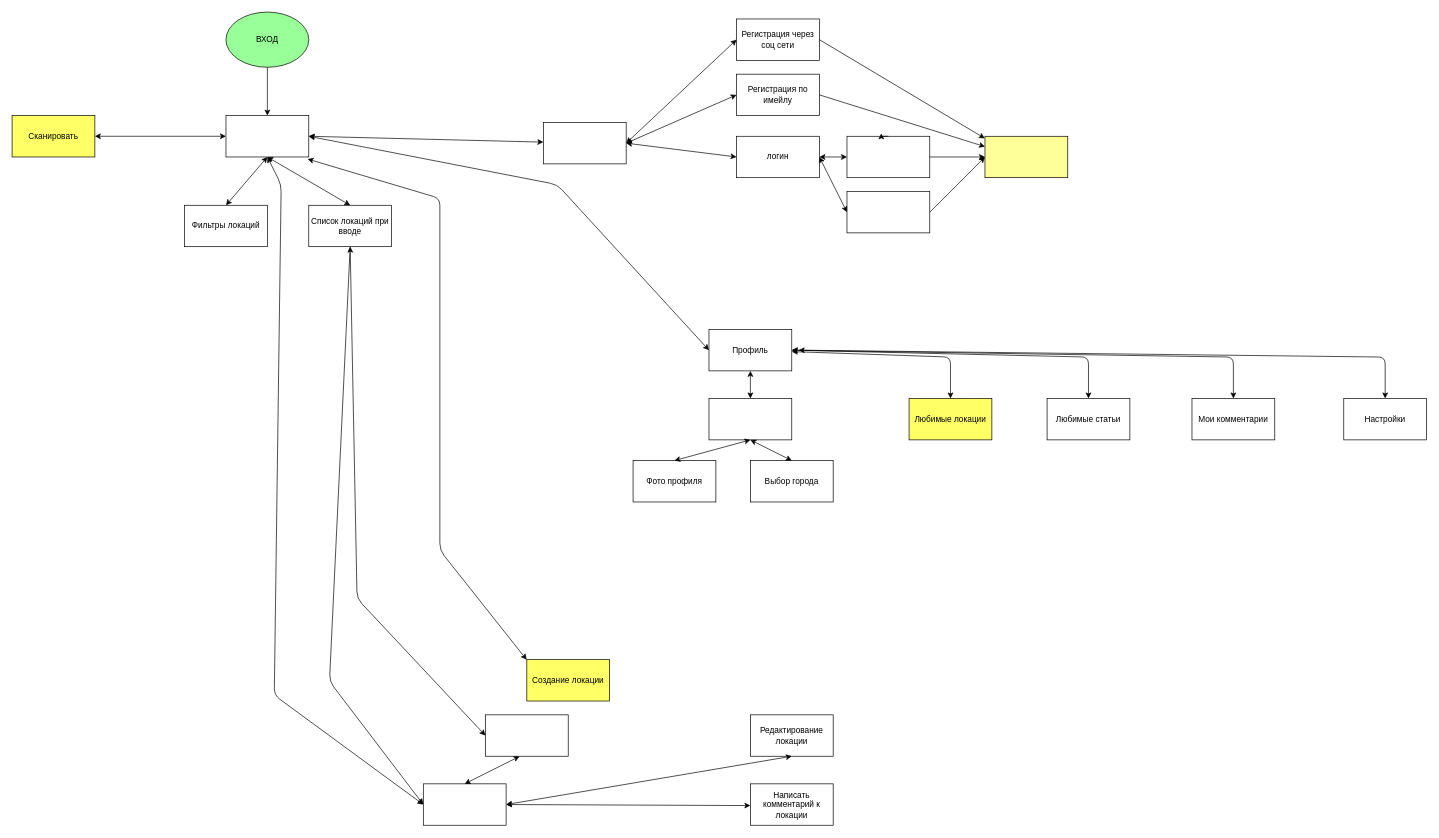
This 1439x838 diagram has some shape labels left out. The centre of each missing label's shape, as x and y in pixels:
Детали локации: (464,804)
Карта: (267,136)
Логин по имейлу: (888,157)
Логин через соц сети: (888,212)
Предложение быть волонтером: (1026,157)
Регистрация: (584,143)
Редактировать профиль: (750,419)
Список локаций: (526,735)
